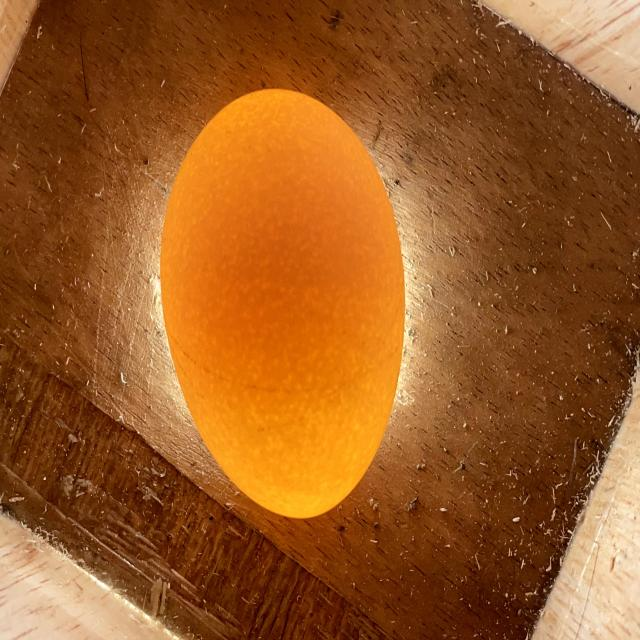infertile: (161, 90, 405, 518)
